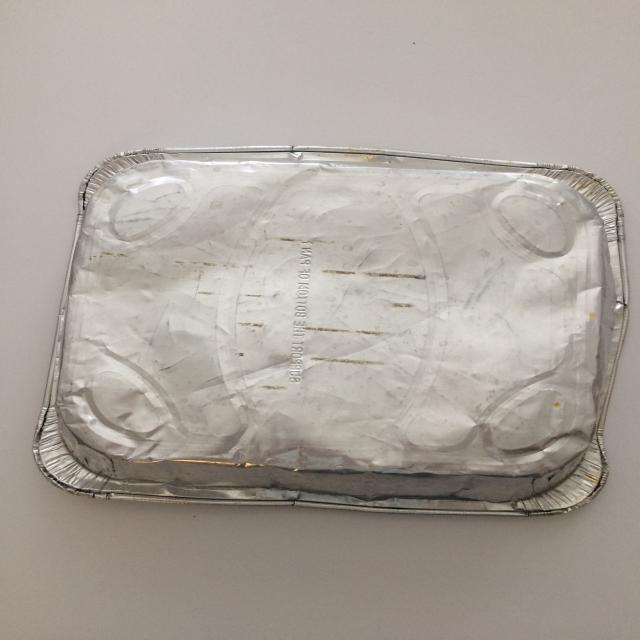metal: (32, 145, 629, 516)
